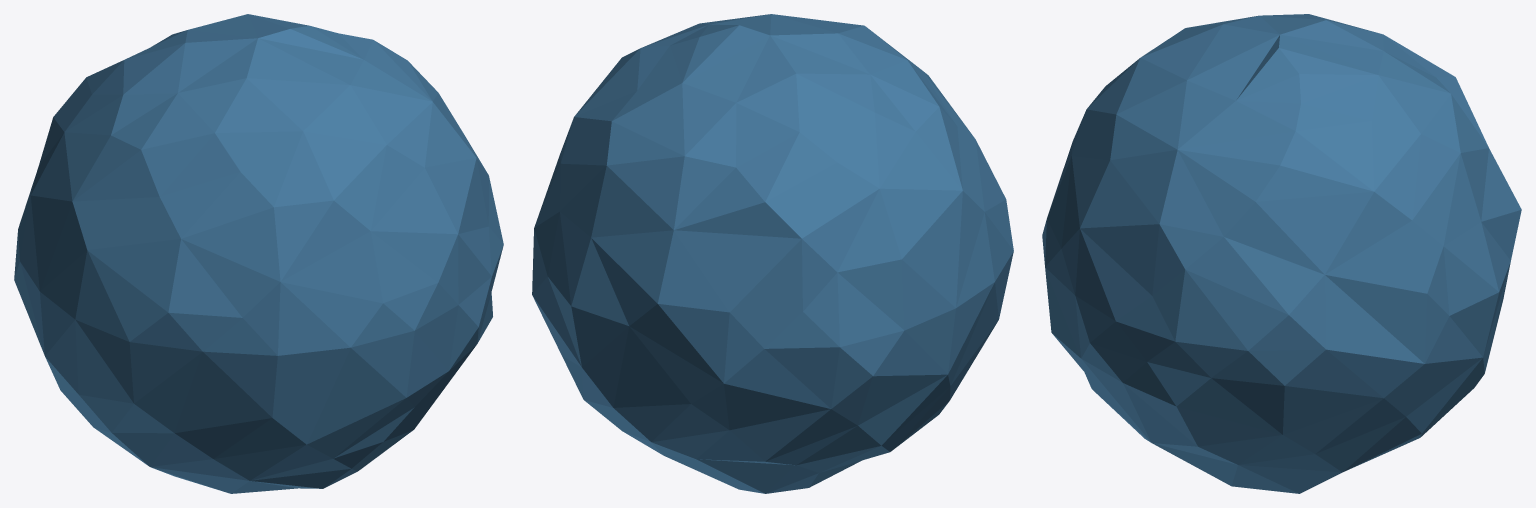
Rendered from Neptun.fbx.
3 renders of one model, left to right at view 1: azimuth 30°, elevation 25°; view 2: azimuth 150°, elevation 25°; view 3: azimuth 270°, elevation 25°, orthographic.
Parts seen in each view (by area): view 1: Neptun; view 2: Neptun; view 3: Neptun.
Part boxes in pixels (x1,y1,x2,y2): Neptun: (14,14,503,493); Neptun: (532,14,1013,493); Neptun: (1042,14,1521,493).
Bounding box in the file's own units: 4.15 × 4.14 × 4.16.
